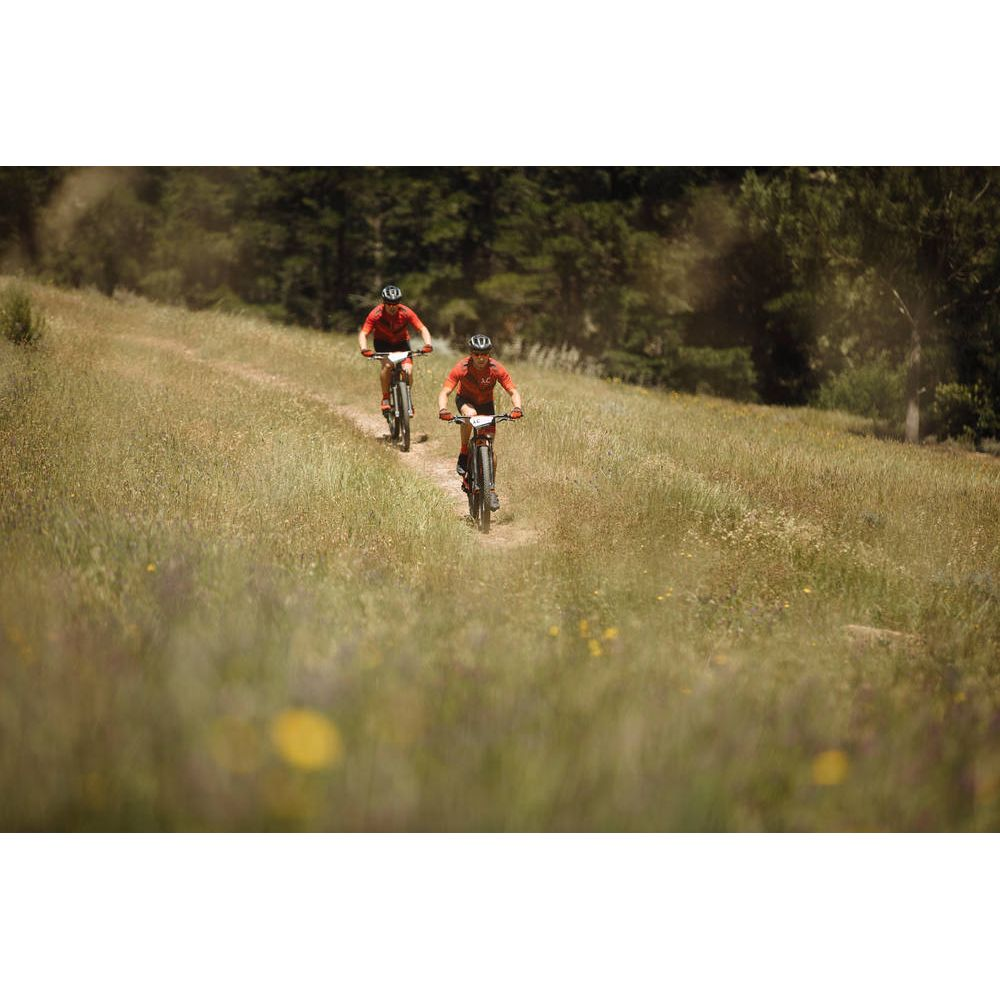MountainBike: (435, 400, 529, 533), (359, 342, 438, 455)
